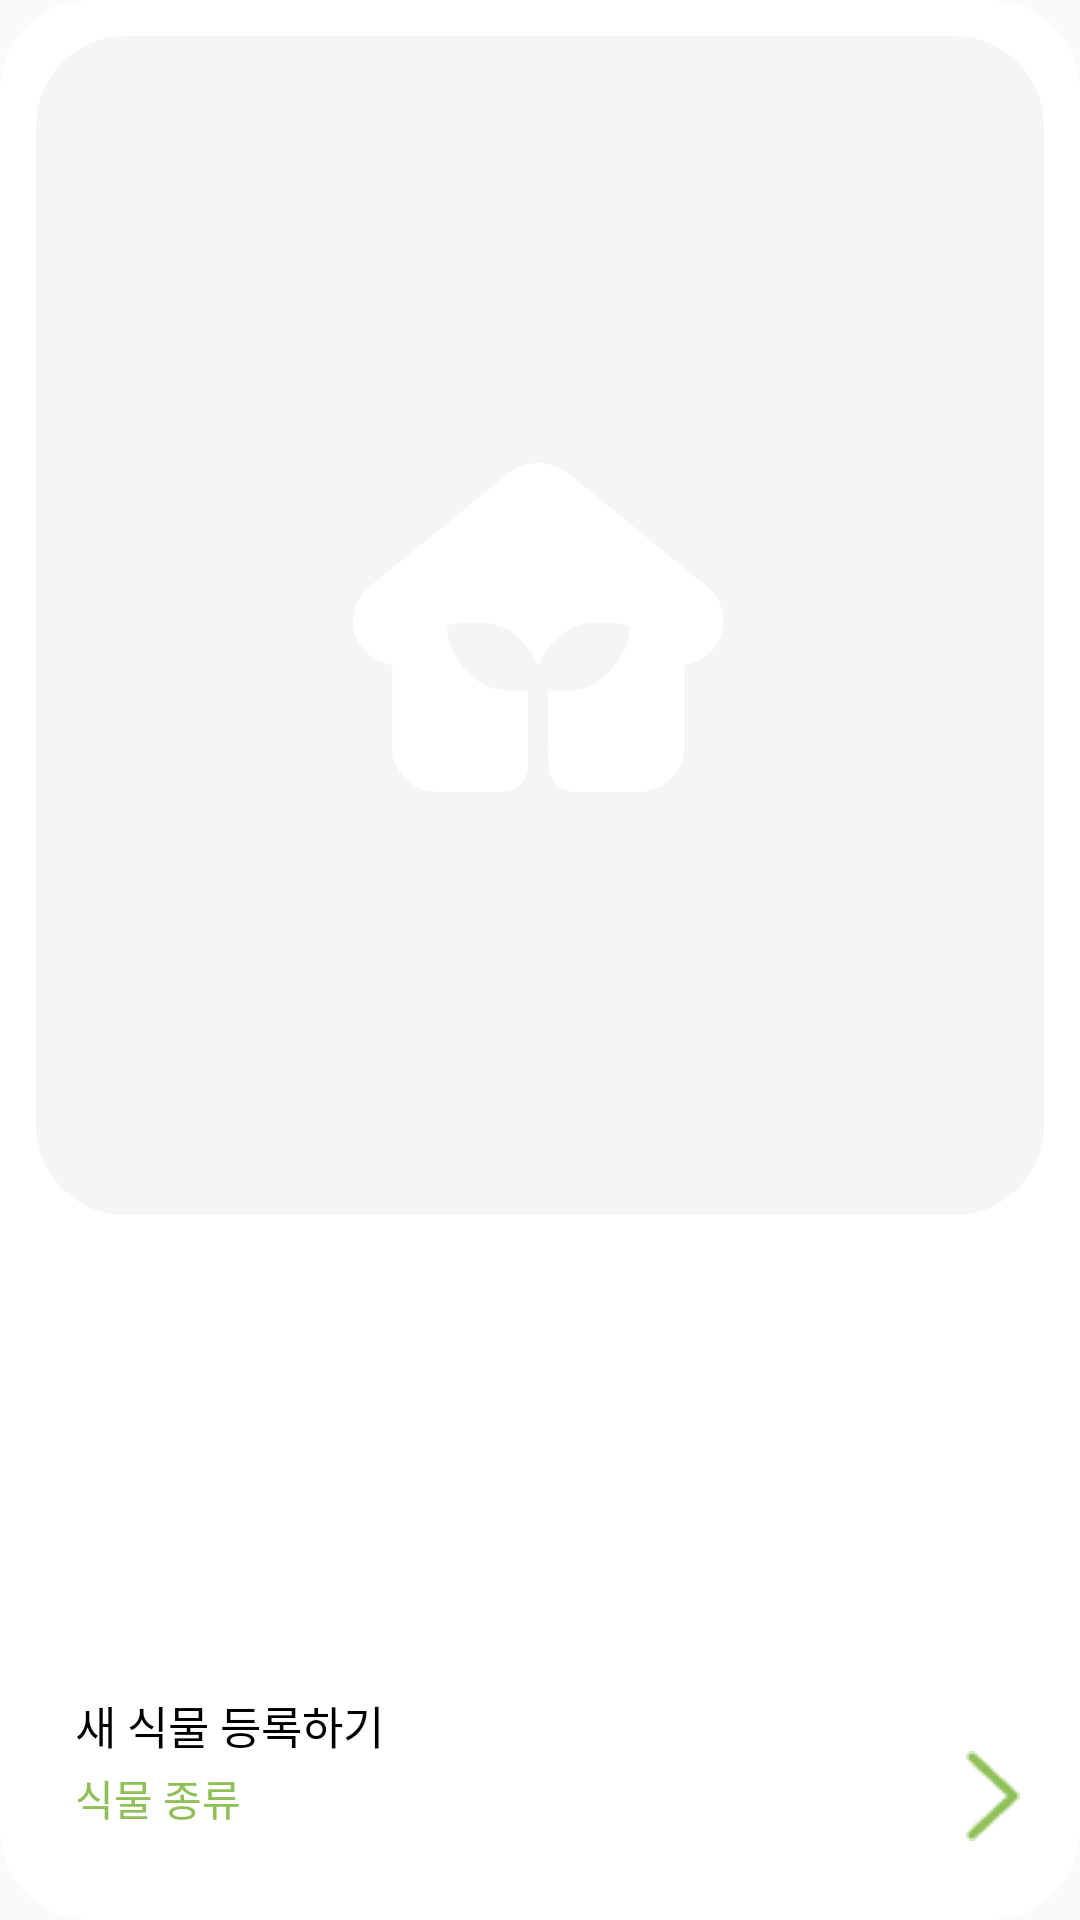

Screen size 1080 x 1920. Icon name, then its center in pixels as [x,y]:
pass: [993,1796]
